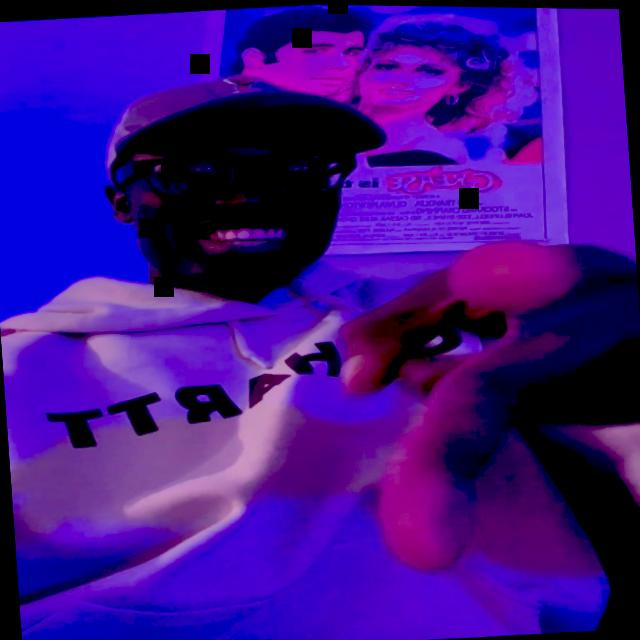Scissors: (323, 227, 640, 582)
